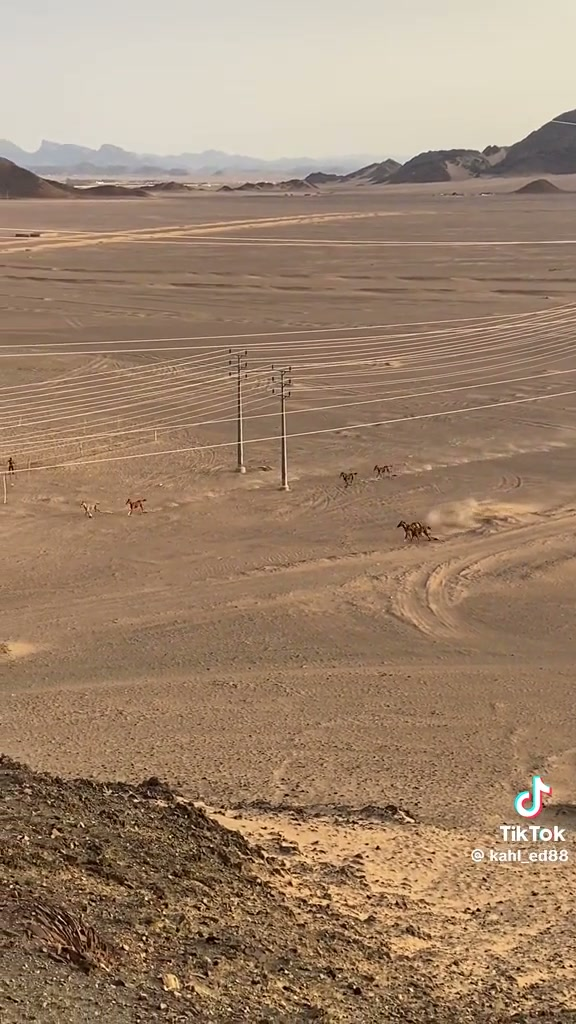animal: (397, 520, 431, 540), (126, 498, 145, 515), (81, 501, 99, 517), (340, 471, 356, 486), (374, 464, 391, 477), (7, 457, 14, 474)
vehicle_track: (390, 510, 575, 646)
